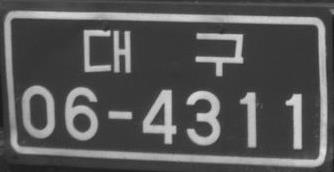0: (20, 82, 56, 139)
1: (233, 91, 267, 146), (279, 92, 311, 150)
3: (186, 88, 221, 146)
4: (141, 88, 178, 144)
6: (63, 84, 99, 141)
대구_D: (83, 28, 244, 78)
